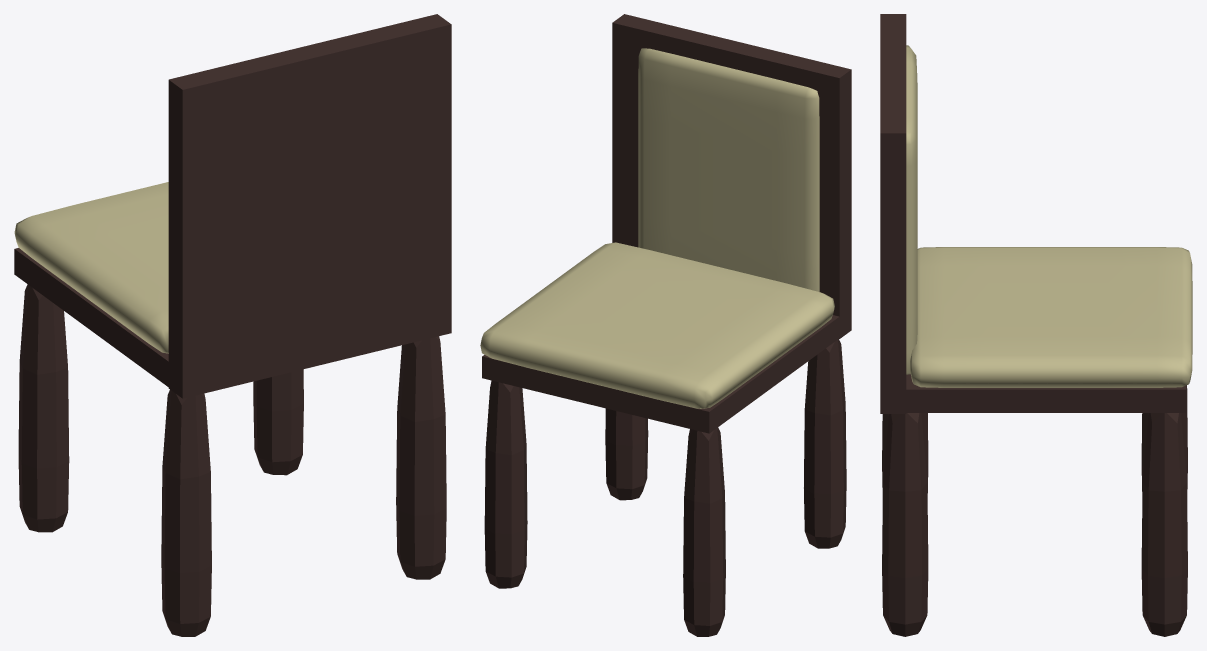
Rendered from chair.fbx.
3 renders of one model, left to right at view 1: azimuth 30°, elevation 25°; view 2: azimuth 150°, elevation 25°; view 3: azimuth 270°, elevation 25°, orthographic. The views are drawn at different scales.
Parts seen in each view (by area): view 1: Cube.006, Cube, Cube.003, Cube.004, Cube.001, Cube.002, Cube.005; view 2: Cube.007, Cube, Cube.006, Cube.005, Cube.001, Cube.002, Cube.003, Cube.004; view 3: Cube, Cube.006, Cube.002, Cube.004, Cube.005, Cube.007, Cube.001, Cube.003.
Part boxes in pixels (left/top/right/bottom): Cube.006: left=168, top=14, right=451, bottom=398; Cube: left=14, top=182, right=168, bottom=353; Cube.003: left=161, top=390, right=211, bottom=636; Cube.004: left=396, top=336, right=446, bottom=579; Cube.001: left=18, top=284, right=69, bottom=532; Cube.002: left=253, top=369, right=303, bottom=475; Cube.005: left=14, top=248, right=168, bottom=386; Cube.007: left=638, top=48, right=819, bottom=291; Cube: left=480, top=242, right=834, bottom=408; Cube.006: left=612, top=14, right=851, bottom=338; Cube.005: left=482, top=315, right=839, bottom=433; Cube.001: left=683, top=427, right=725, bottom=636; Cube.002: left=484, top=380, right=527, bottom=588; Cube.003: left=804, top=339, right=846, bottom=548; Cube.004: left=605, top=408, right=648, bottom=500; Cube: left=910, top=247, right=1192, bottom=387; Cube.006: left=880, top=14, right=906, bottom=413; Cube.002: left=1141, top=413, right=1187, bottom=636; Cube.004: left=882, top=378, right=928, bottom=636; Cube.005: left=906, top=374, right=1186, bottom=412; Cube.007: left=906, top=45, right=917, bottom=374; Cube.001: left=1141, top=385, right=1187, bottom=492; Cube.003: left=882, top=413, right=928, bottom=495.
Bounding box in the file's own units: 189 × 362 × 202.
